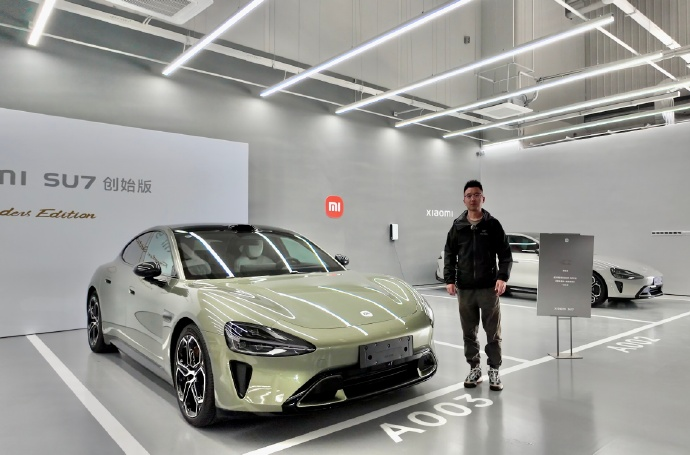su7: (85, 217, 434, 421), (592, 250, 672, 302)
